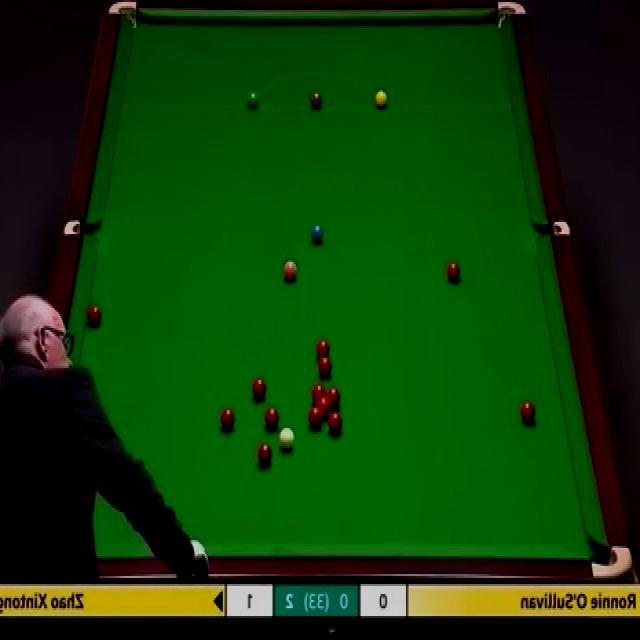blue-ball: (310, 222, 325, 245)
brown-ball: (310, 90, 323, 110)
green-ball: (247, 89, 260, 110)
pink-ball: (281, 258, 300, 279)
red-ball: (258, 440, 275, 465), (445, 262, 463, 285), (251, 376, 267, 401), (264, 407, 280, 431), (220, 408, 236, 432), (87, 304, 103, 328), (520, 400, 536, 423), (308, 408, 324, 430), (317, 357, 332, 378), (326, 390, 341, 410), (328, 412, 342, 433), (311, 384, 326, 403), (316, 342, 331, 361), (317, 398, 330, 416)
white-ball: (278, 428, 296, 454)
yellow-ball: (375, 90, 387, 110)
